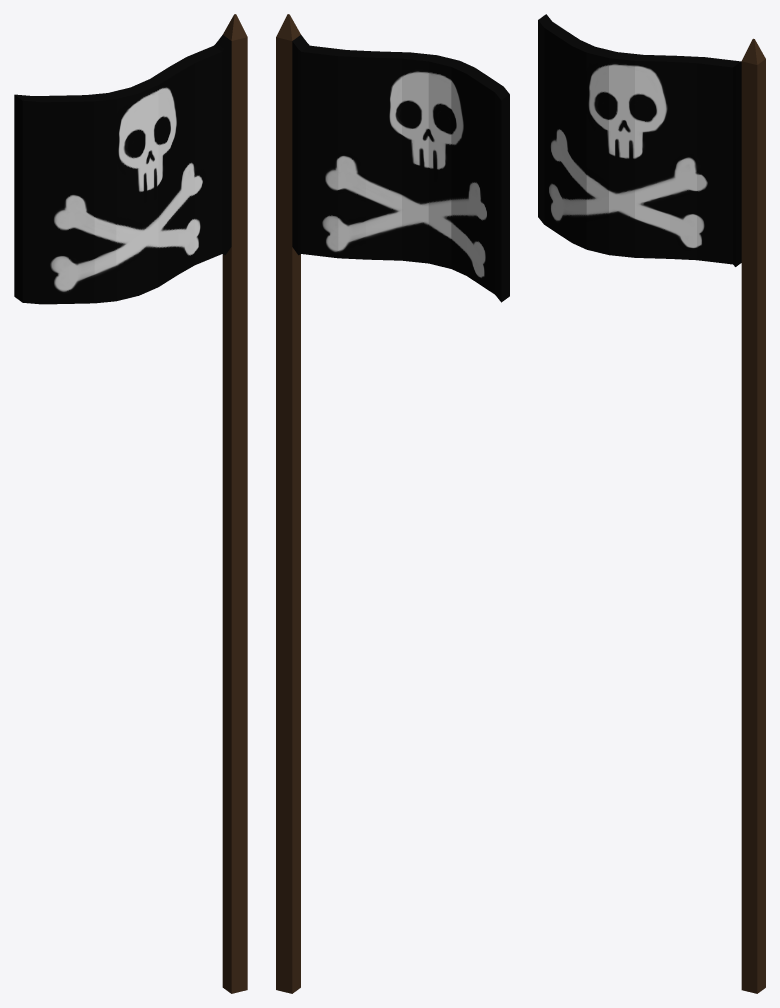
File: bandeira.fbx
3 renders of one model, left to right at view 1: azimuth 30°, elevation 25°; view 2: azimuth 150°, elevation 25°; view 3: azimuth 330°, elevation 25°, orthographic. The views are drawn at different scales.
Visible parts, largest first — view 1: Cube; view 2: Cube; view 3: Cube.
Part boxes in pixels (x1=…): Cube: x1=14, y1=14, x2=247, y2=993; Cube: x1=276, y1=14, x2=509, y2=993; Cube: x1=538, y1=14, x2=765, y2=993.
Bounding box in the file's own units: 112 × 464 × 26.45.
